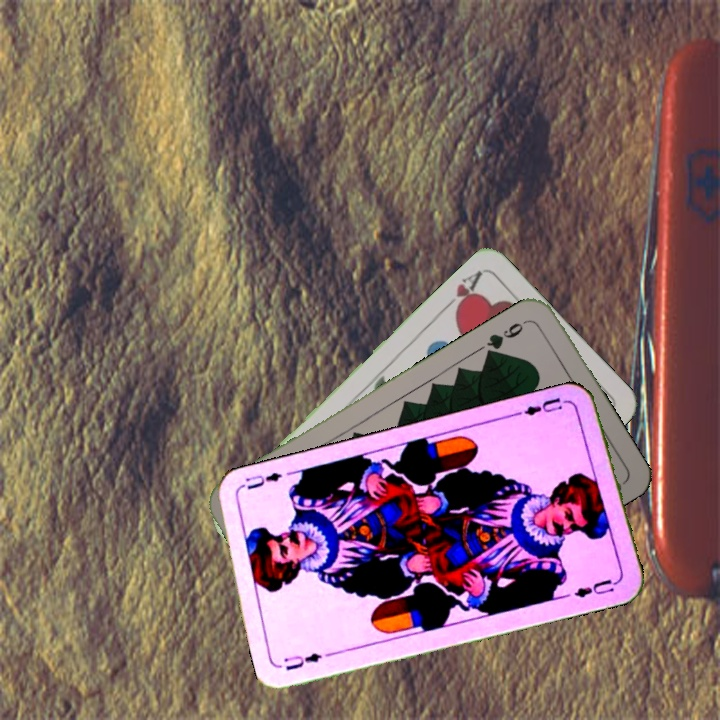EU: (513, 393, 572, 419), (280, 648, 325, 673)
G9: (481, 315, 531, 359)
HA: (438, 266, 485, 318)
